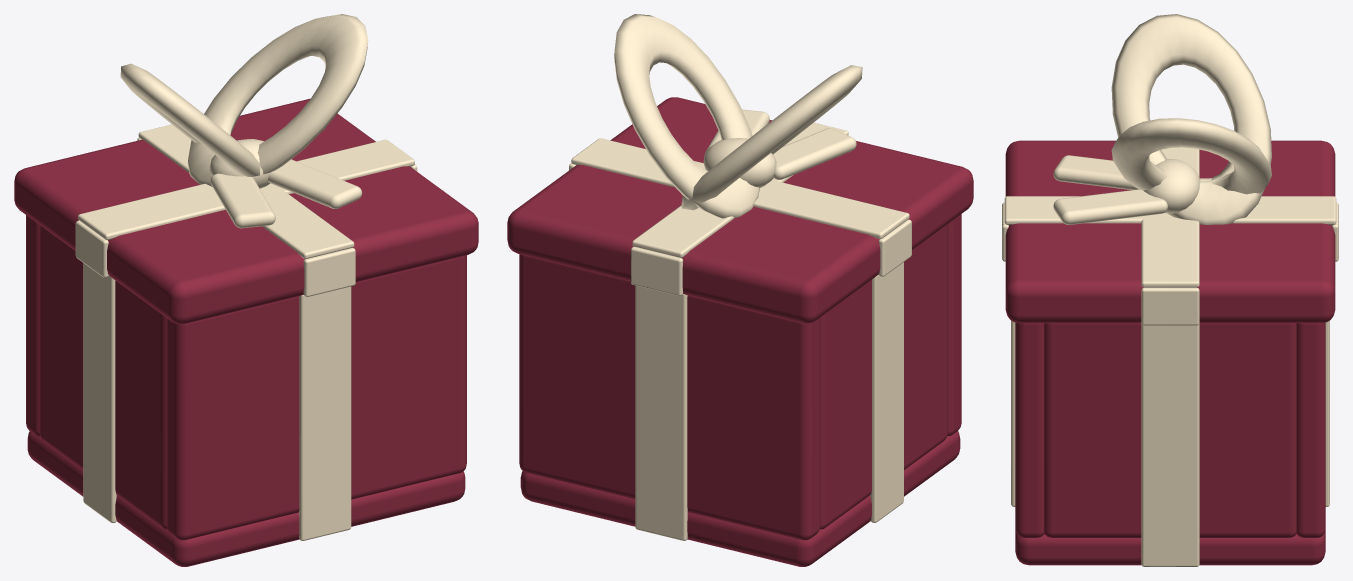
File: gift-classic-1.glb
3 renders of one model, left to right at view 1: azimuth 30°, elevation 25°; view 2: azimuth 150°, elevation 25°; view 3: azimuth 270°, elevation 25°, orthographic.
Parts seen in each view (by area): view 1: Gift_Body, Gift_Lid, Gift_Bow_Loop_R, Gift_Bow, Gift_Bow_Loop_L; view 2: Gift_Body, Gift_Lid, Gift_Bow_Loop_R, Gift_Bow_Loop_L, Gift_Bow; view 3: Gift_Body, Gift_Lid, Gift_Bow_Loop_L, Gift_Bow_Loop_R, Gift_Bow.
Boxes of the visible parts, x1=… form: Gift_Body: x1=26, y1=215, x2=466, y2=566; Gift_Lid: x1=14, y1=98, x2=478, y2=324; Gift_Bow_Loop_R: x1=187, y1=14, x2=368, y2=186; Gift_Bow: x1=209, y1=139, x2=362, y2=228; Gift_Bow_Loop_L: x1=120, y1=63, x2=260, y2=176; Gift_Body: x1=519, y1=214, x2=961, y2=566; Gift_Lid: x1=507, y1=97, x2=973, y2=323; Gift_Bow_Loop_R: x1=614, y1=14, x2=759, y2=218; Gift_Bow_Loop_L: x1=681, y1=65, x2=862, y2=210; Gift_Bow: x1=703, y1=109, x2=856, y2=188; Gift_Body: x1=1011, y1=320, x2=1329, y2=566; Gift_Lid: x1=1002, y1=140, x2=1338, y2=325; Gift_Bow_Loop_L: x1=1111, y1=14, x2=1271, y2=224; Gift_Bow_Loop_R: x1=1111, y1=118, x2=1271, y2=194; Gift_Bow: x1=1053, y1=155, x2=1200, y2=224.
Size of the model in its own units: 0.928 by 1.23 by 0.868.
